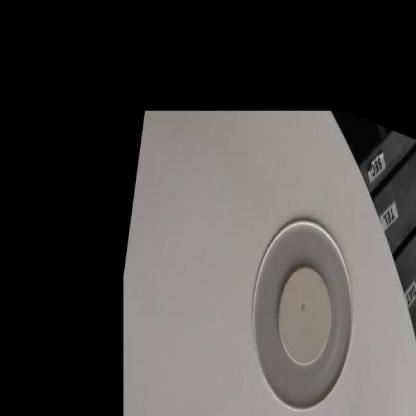light_off: (224, 166, 376, 415)
